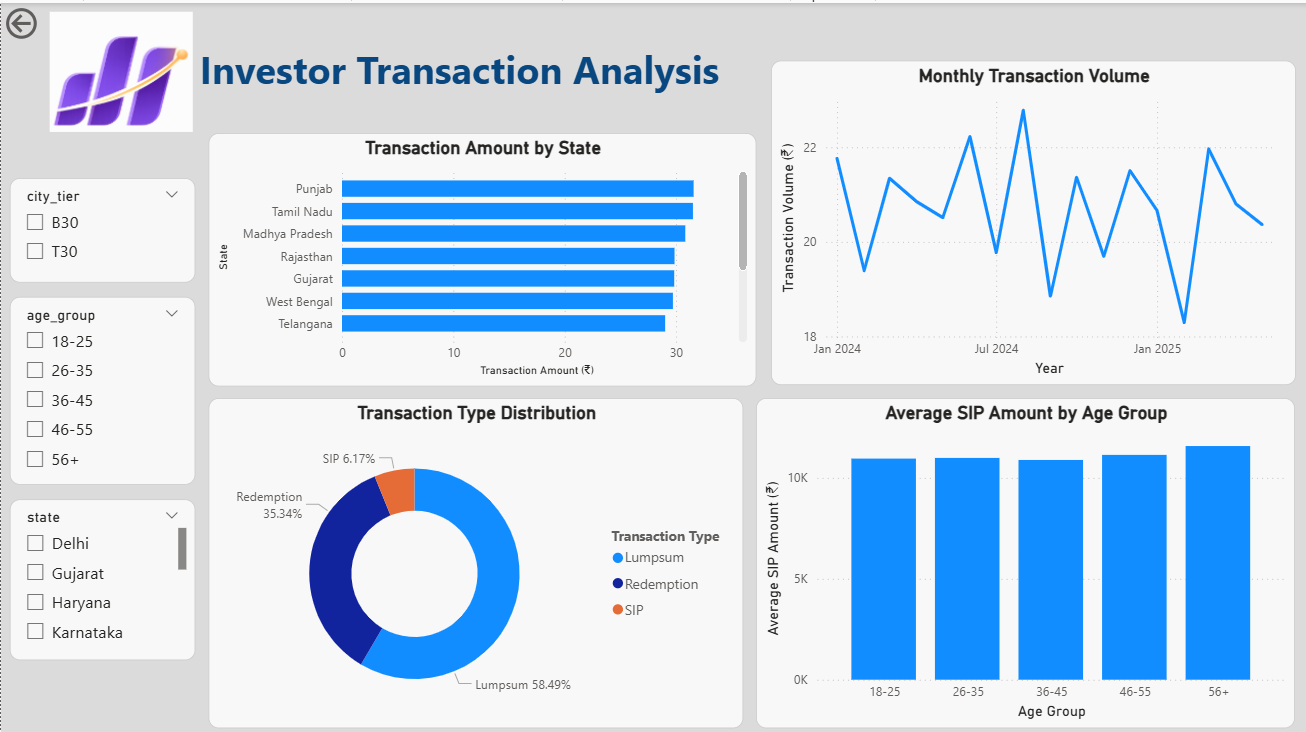

Layout of this report page (visuals, bound fields, positions):
{"tool":"powerbi","page":{"name":"Page 3","canvas":[1280,720],"ordinal":2},"visuals":[{"type":"clusteredBarChart","title":"Transaction Amount by State","fields":{"Category":["08_investor_transactions.state"],"Y":["08_investor_transactions.Transaction Amount (₹ Cr)"]},"box":[202.6,126.6,536,247.6],"z":0},{"type":"donutChart","title":"Transaction Type Distribution","fields":{"Category":["08_investor_transactions.transaction_type"],"Y":["08_investor_transactions.Transaction Amount (₹ Cr)"]},"box":[202.6,386.9,523.4,323.6],"z":1000},{"type":"clusteredColumnChart","title":"Average SIP Amount by Age Group","fields":{"Category":["08_investor_transactions.age_group"],"Y":["Avg(08_investor_transactions.amount_inr)"]},"box":[738.6,386.9,527.6,323.6],"z":2000},{"type":"actionButton","box":[0,0,100,40],"z":3000},{"type":"lineChart","title":"Monthly Transaction Volume","fields":{"Category":["08_investor_transactions.transaction_date.Variation.Date Hierarchy.Year","08_investor_transactions.transaction_date.Variation.Date Hierarchy.Month"],"Y":["08_investor_transactions.Transaction Amount (₹ Cr)"]},"box":[752.7,56.3,513.5,318],"z":4000},{"type":"slicer","fields":{"Values":["08_investor_transactions.state"]},"box":[8.4,485.4,181.5,157.6],"z":5000},{"type":"slicer","fields":{"Values":["08_investor_transactions.age_group"]},"box":[8.4,287,181.5,184.3],"z":6000},{"type":"slicer","fields":{"Values":["08_investor_transactions.city_tier"]},"box":[8.4,171.6,181.5,102.7],"z":7000},{"type":"textbox","box":[189.8,34.6,573.9,72.3],"z":8000},{"type":"image","box":[22.6,9,191.3,117.5],"z":8001}]}

Visuals, with their boxes in screenshot pixels (x1, y1, x2, y2), scaled from the page's 1280x720 canvas onto the 1306x732 screenshot:
"Transaction Amount by State" clusteredBarChart: region(207, 129, 754, 380)
"Transaction Type Distribution" donutChart: region(207, 393, 741, 722)
"Average SIP Amount by Age Group" clusteredColumnChart: region(754, 393, 1292, 722)
actionButton: region(0, 0, 102, 41)
"Monthly Transaction Volume" lineChart: region(768, 57, 1292, 381)
slicer - 08_investor_transactions.state: region(9, 493, 194, 654)
slicer - 08_investor_transactions.age_group: region(9, 292, 194, 479)
slicer - 08_investor_transactions.city_tier: region(9, 174, 194, 279)
textbox: region(194, 35, 779, 109)
image: region(23, 9, 218, 129)
